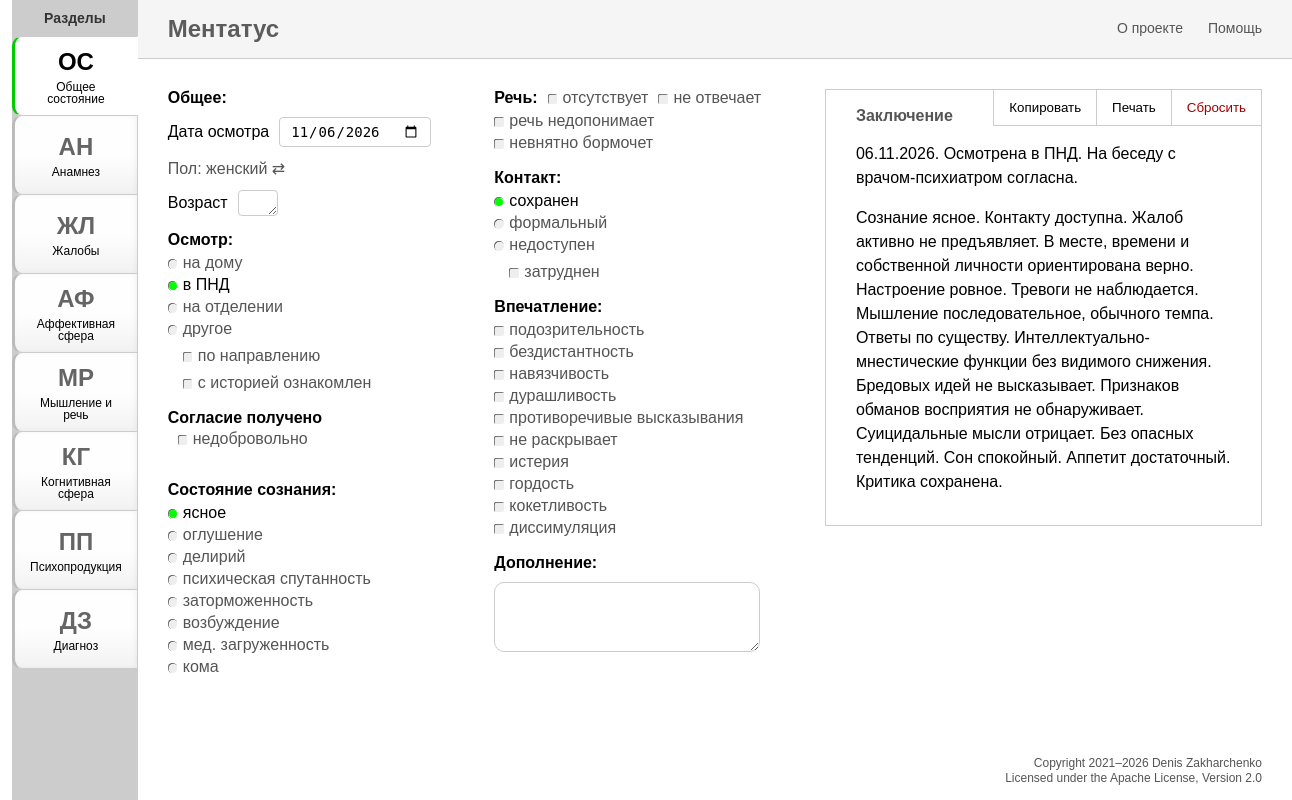
App › открывает «О проекте» и возвращается на рабочий экран по заголовку
Click the button "О проекте" at x=1150, y=29, box [1117, 18, 1183, 40]
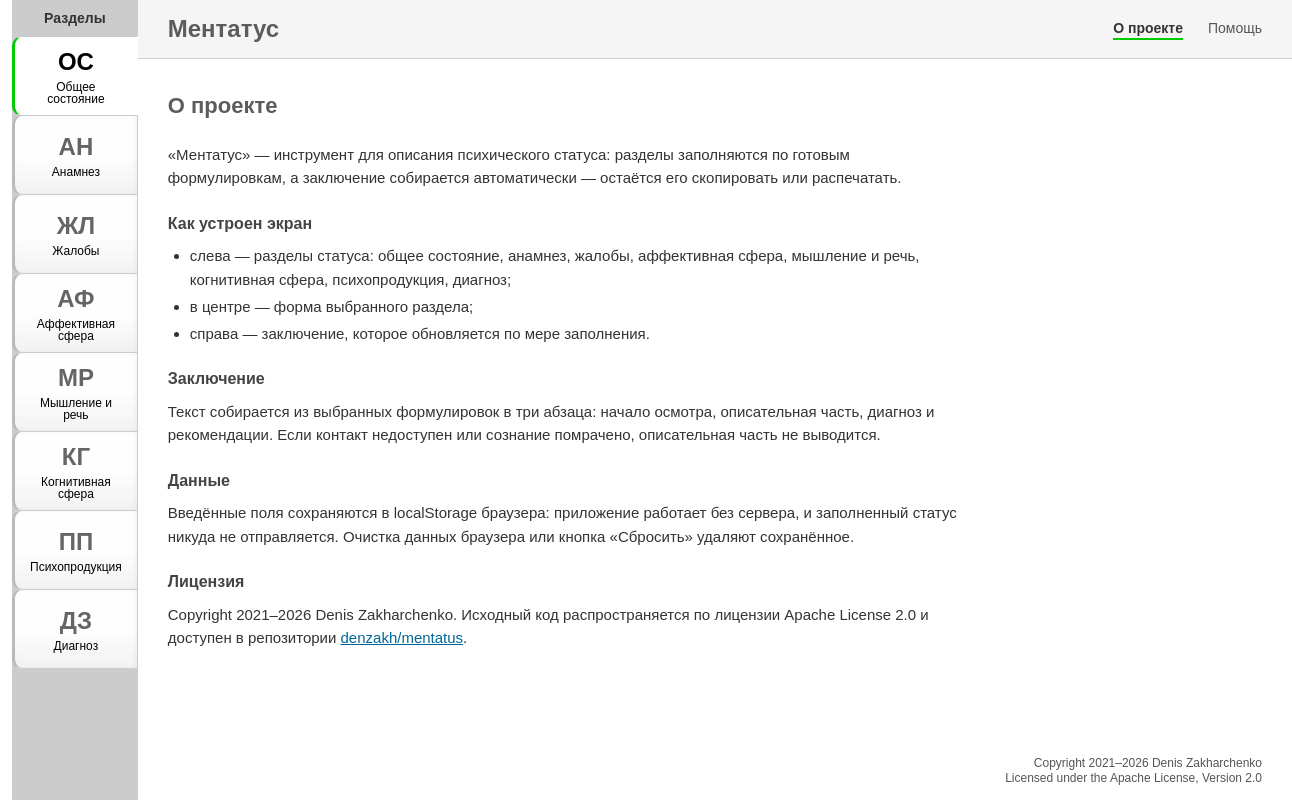
expect the element with class "tab-render" is gone: met
expect the heading with class "static-page__title" reads "О проекте": met, box [168, 93, 278, 118]
заголовок app__title ведёт на главную
Click the button "Ментатус" at x=224, y=29, box [168, 15, 279, 43]
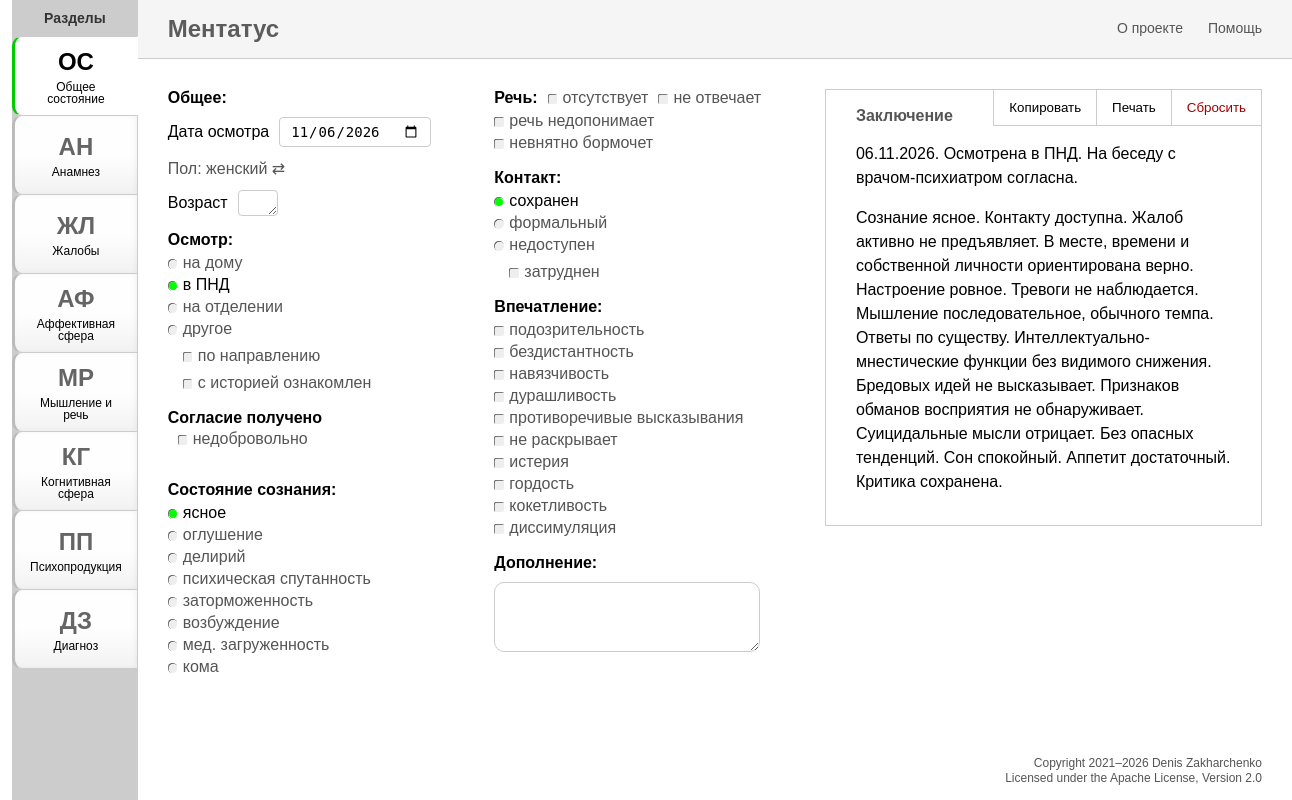
expect the element with class "static-page" is gone: met
expect the element with class "tab-render" is shown: met, box [168, 89, 805, 678]
